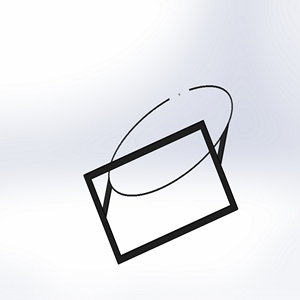circle: (82, 82, 240, 264)
